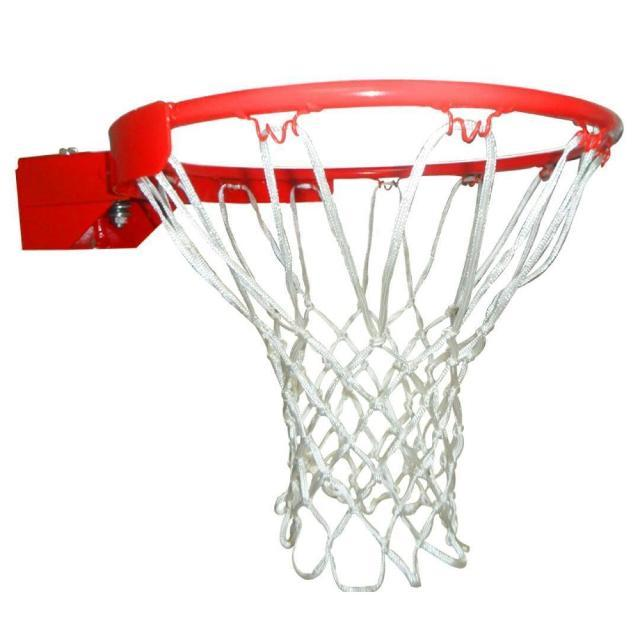rim: (111, 79, 624, 574)
